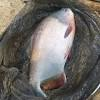Ikan Bawal: (19, 4, 79, 99)
